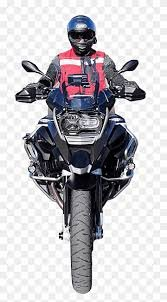motor: (20, 88, 150, 301)
